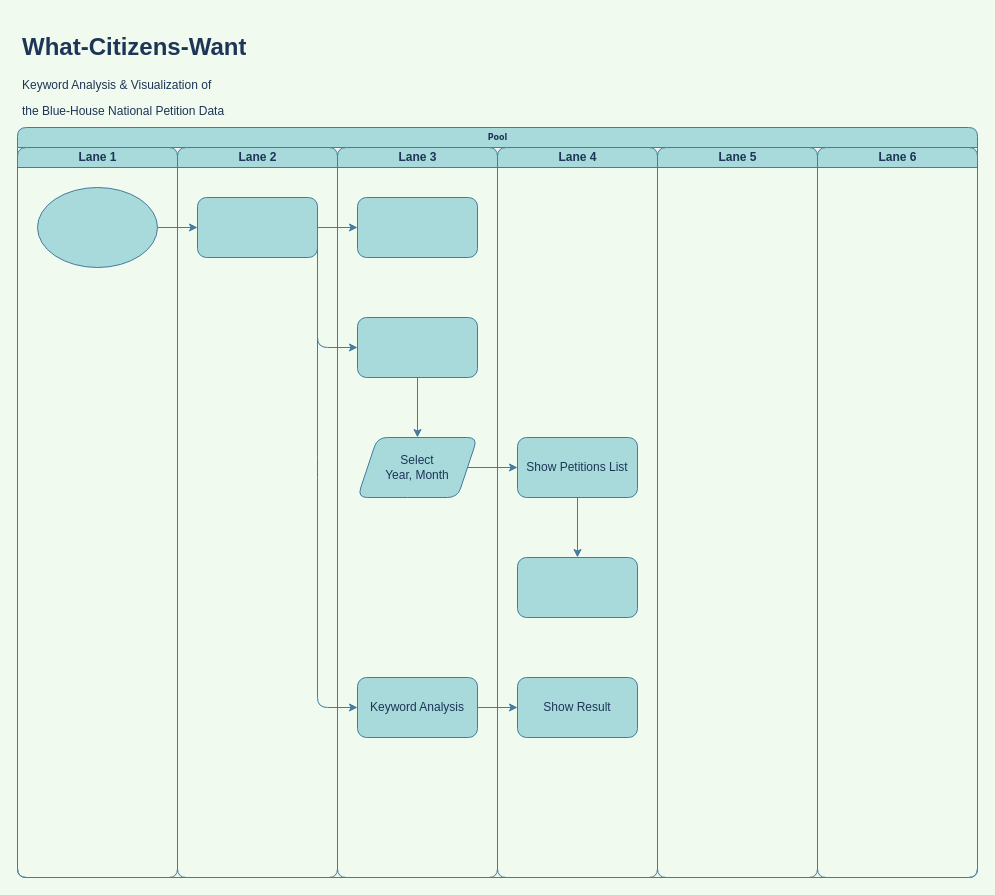
This 995x895 diagram has some shape labels left out. The shapes that lost their labels are listed below. From the top down, each one's centre as x and y in pixels, then its label:
At [97,227]: "Execute".
At [257,227]: "Loading Screen".
At [417,227]: "Home".
At [417,347]: "View Petitions".
At [577,587]: "Show Selected Petition".
